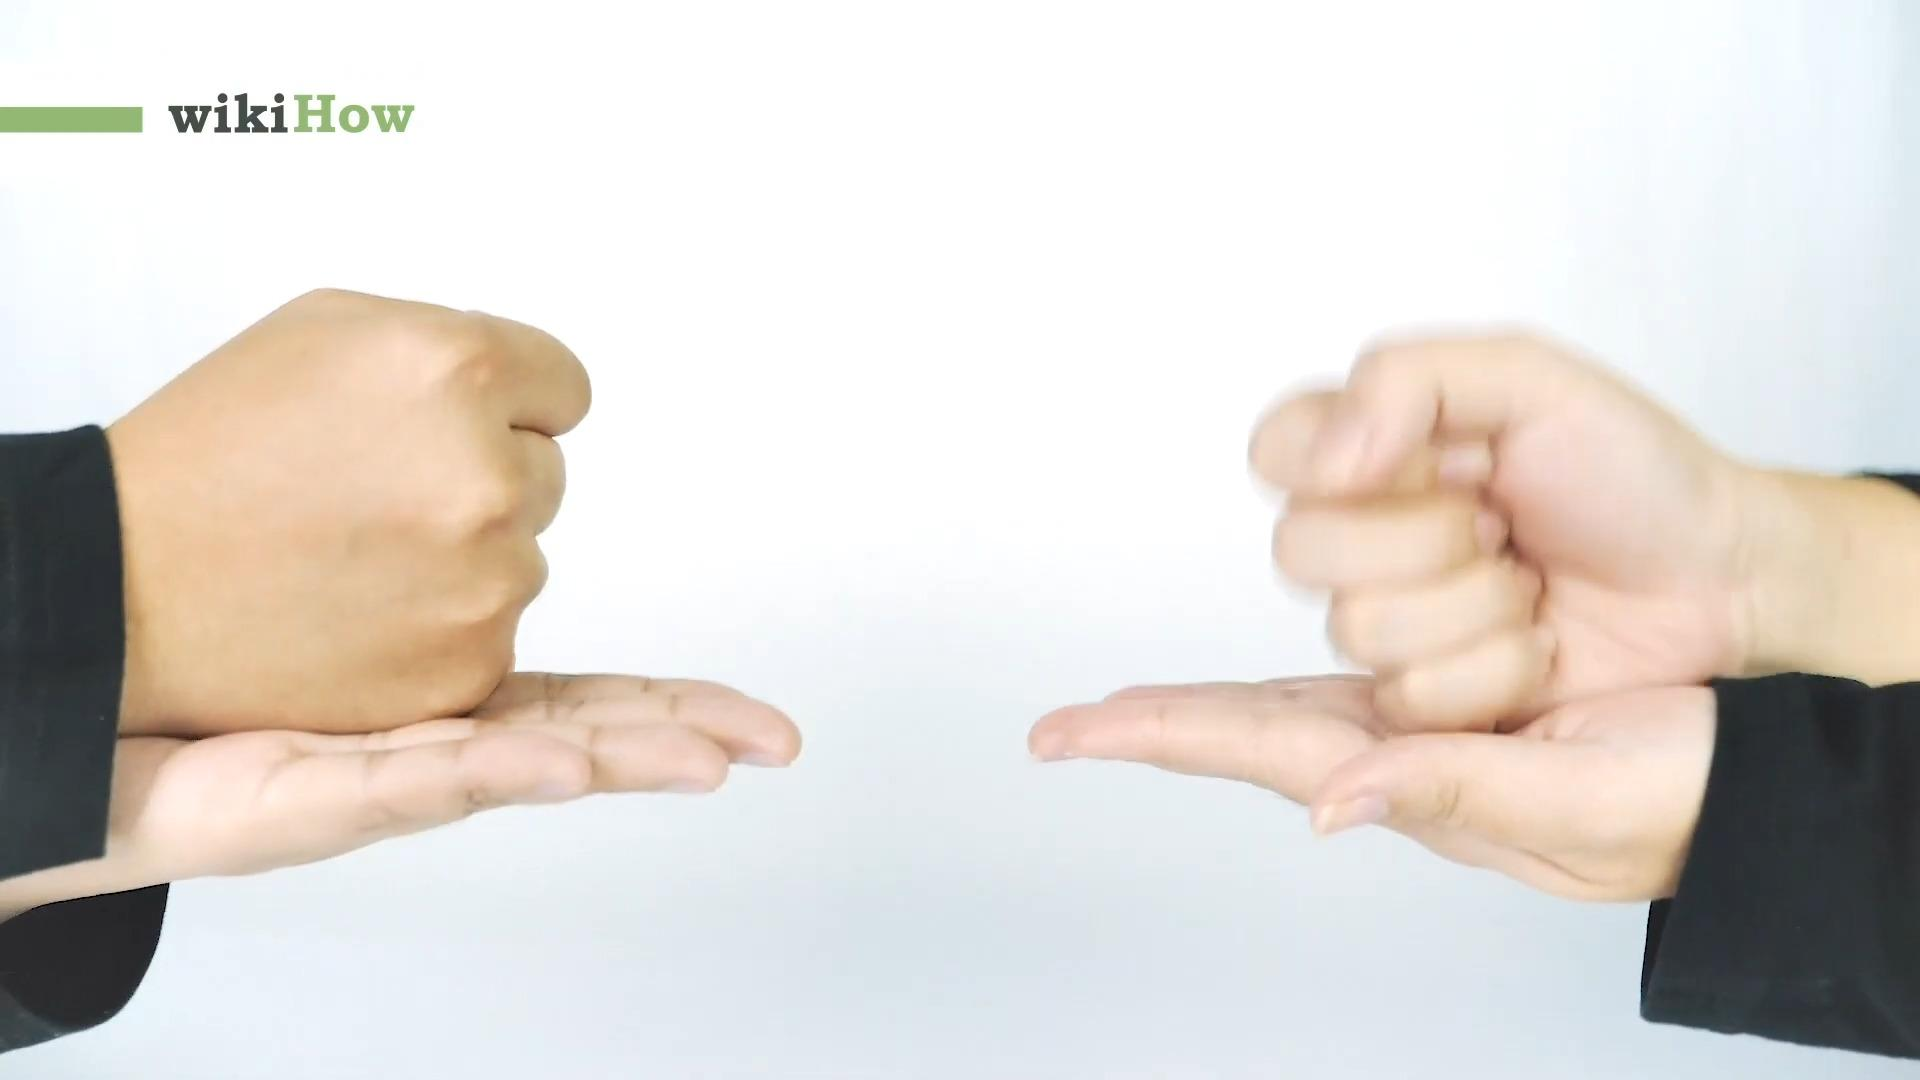Rock: (100, 285, 592, 738), (1247, 323, 1729, 733)
